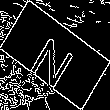N_NE: (28, 23, 82, 87)
